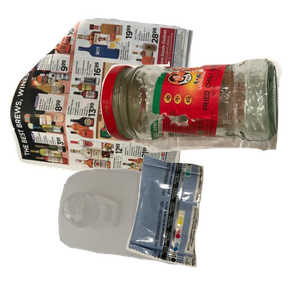glass: (98, 56, 300, 201)
paper: (10, 15, 196, 195)
plastic: (56, 166, 241, 300)
trash: (124, 152, 300, 300)
